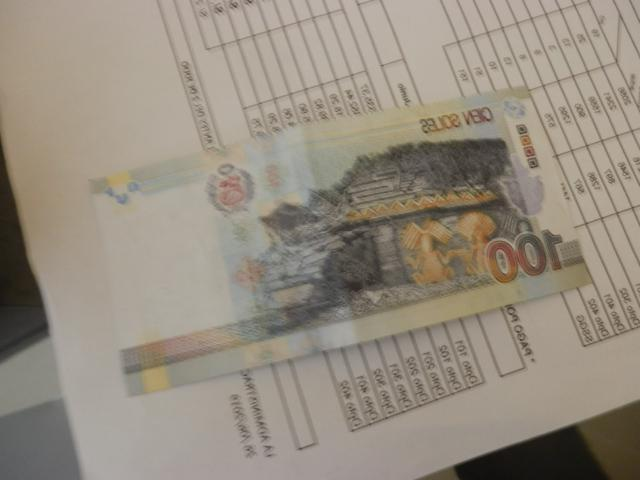B100: (104, 87, 587, 396)
